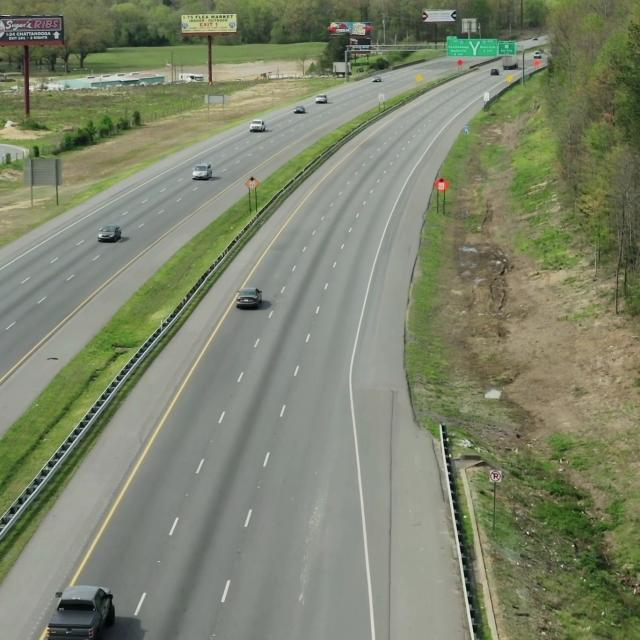Car: (45, 583, 118, 640), (236, 285, 263, 309), (96, 222, 122, 245)
